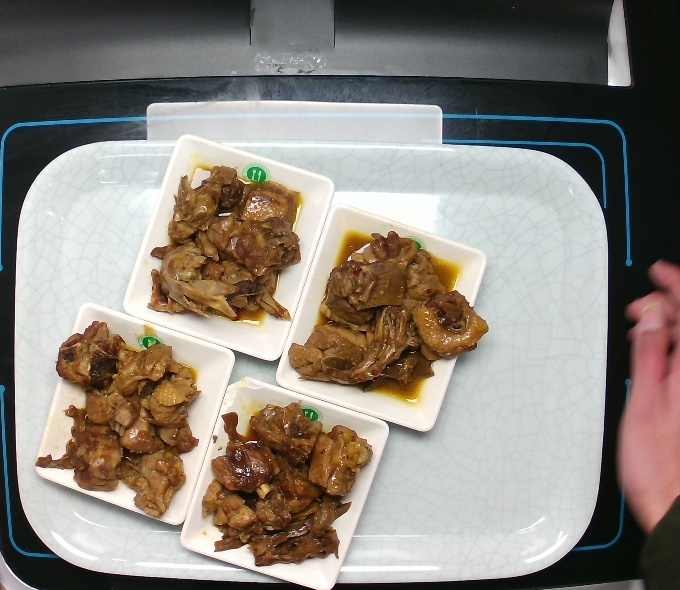wcq-HongShaoJi: (283, 223, 488, 401), (31, 318, 214, 517), (195, 388, 381, 575), (137, 155, 304, 329)
